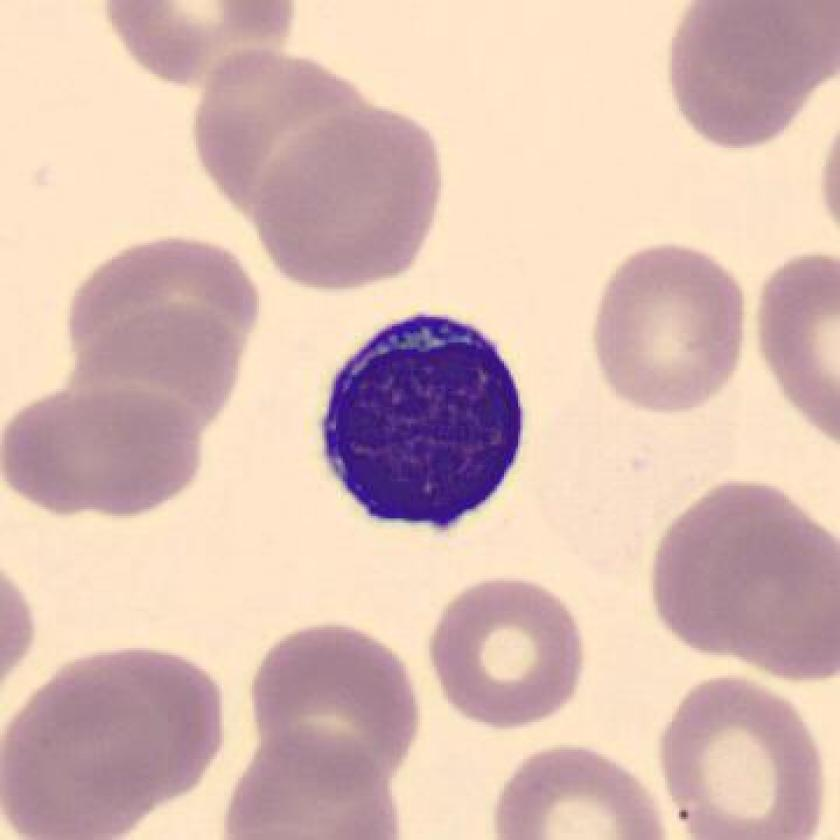lymphocyte: (302, 300, 545, 543)
